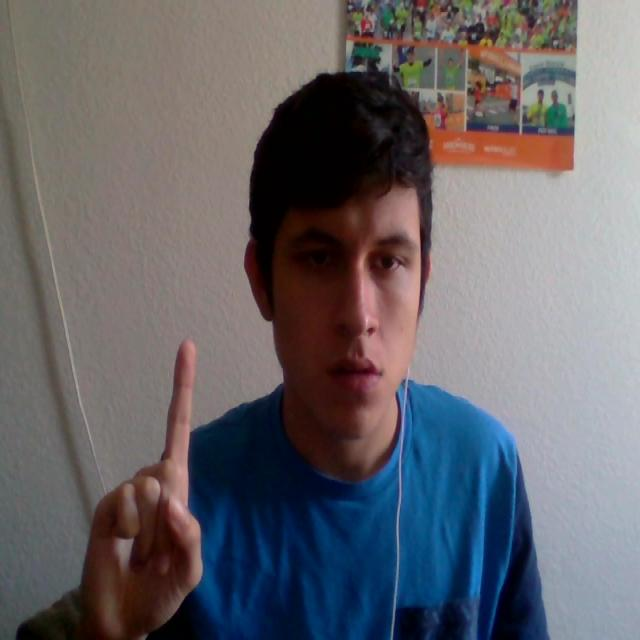D: (56, 324, 242, 640)
